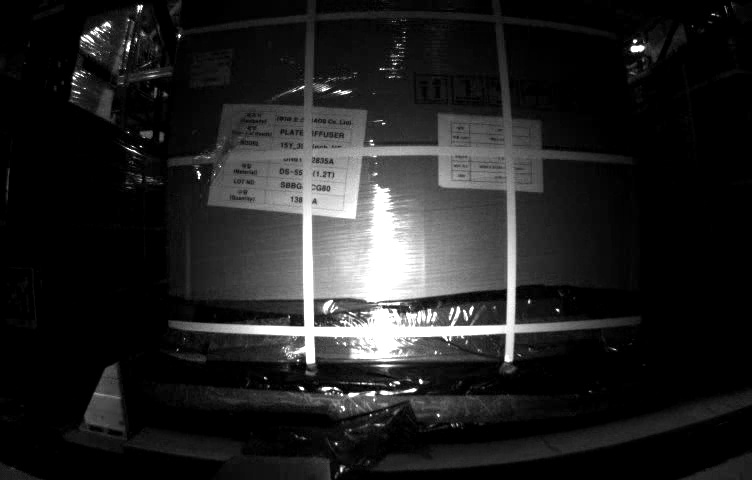True Barcode: (190, 49, 230, 86)
